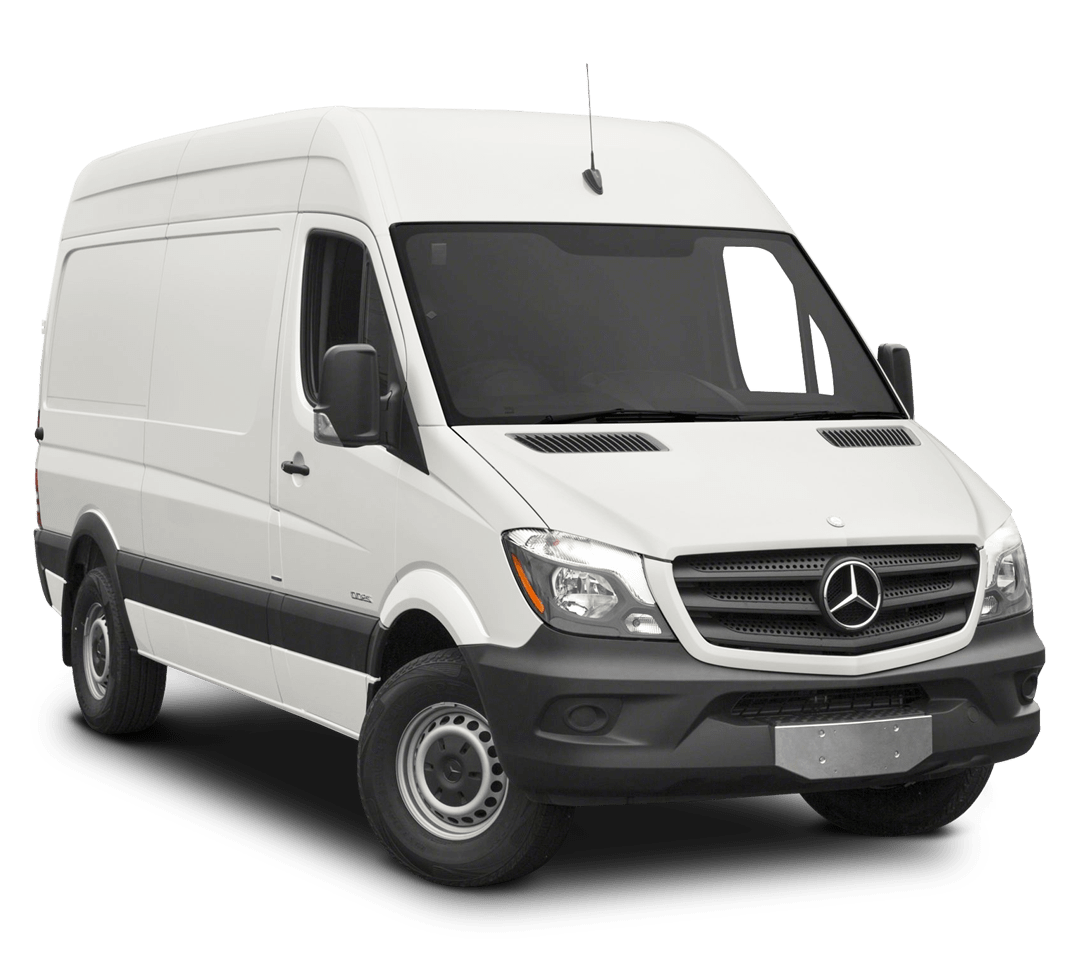van: (33, 110, 1045, 888)
